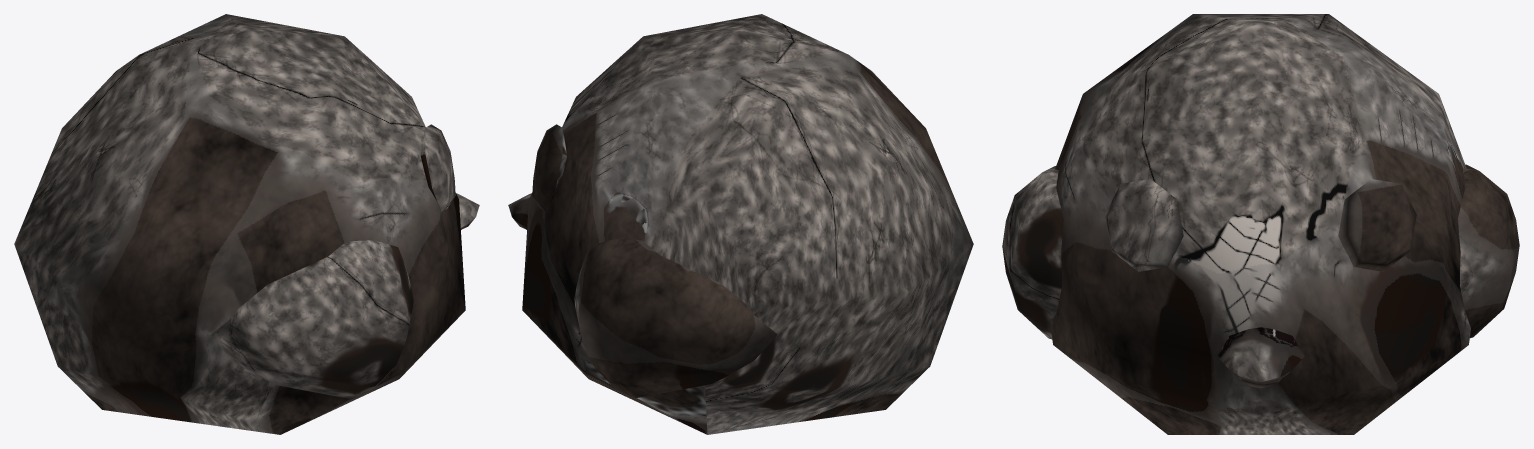
Rendered from SM_Chick.fbx.
The picture shows the model from 3 angles, left to right: view 1: azimuth 30°, elevation 25°; view 2: azimuth 150°, elevation 25°; view 3: azimuth 270°, elevation 25°; orthographic projection. The views are drawn at different scales.
Visible parts, largest first — view 1: polySurface113; view 2: polySurface113; view 3: polySurface113.
Part boxes in pixels (<box>): polySurface113: <box>14,14,479,434</box>; polySurface113: <box>508,14,973,434</box>; polySurface113: <box>1002,14,1519,434</box>.
Bounding box in the file's own units: 139 × 109 × 137.
